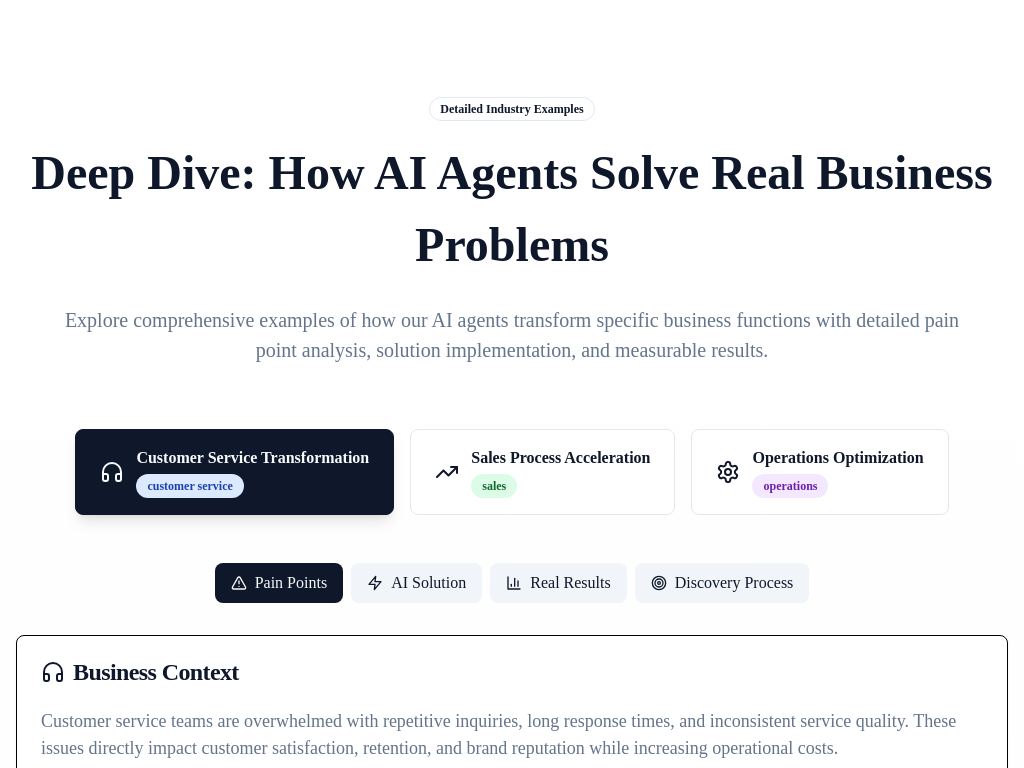
it: DetailedIndustryExamples › shows solution capabilities when on solution tab
# Click on AI Solution tab
Click the button "AI Solution".
click(417, 583)  # box [351, 563, 482, 603]
(page scrolled)
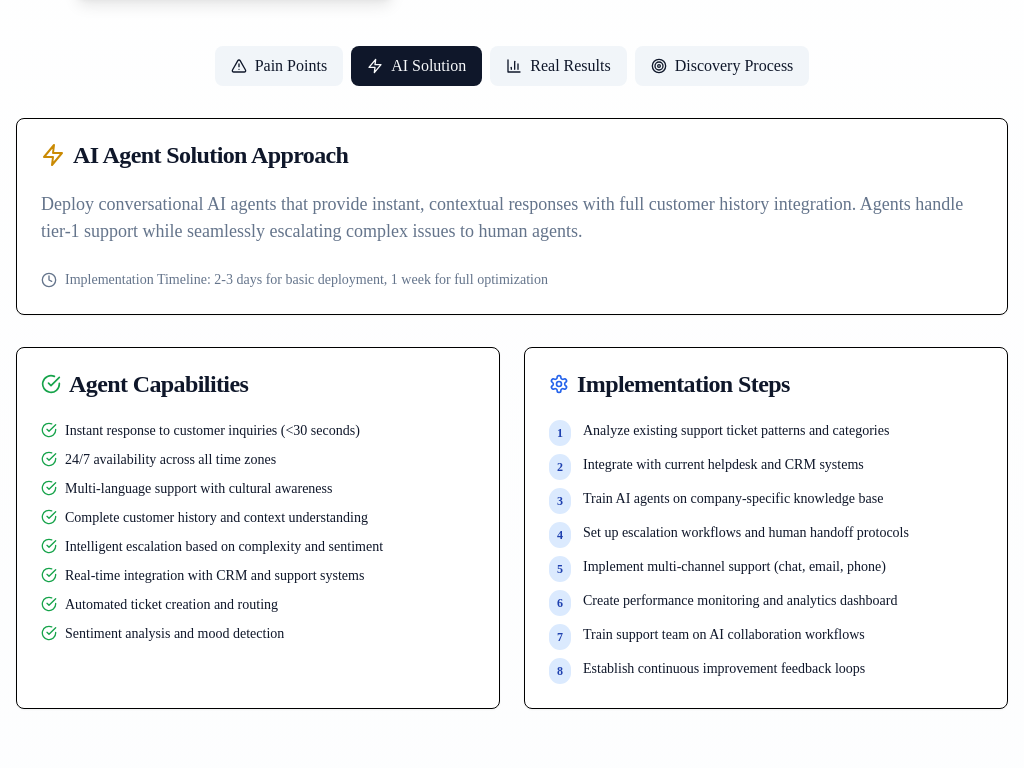
Now the text "Agent Capabilities" is shown, box [41, 371, 248, 397]
Now the text "Implementation Steps" is shown, box [549, 371, 790, 397]
